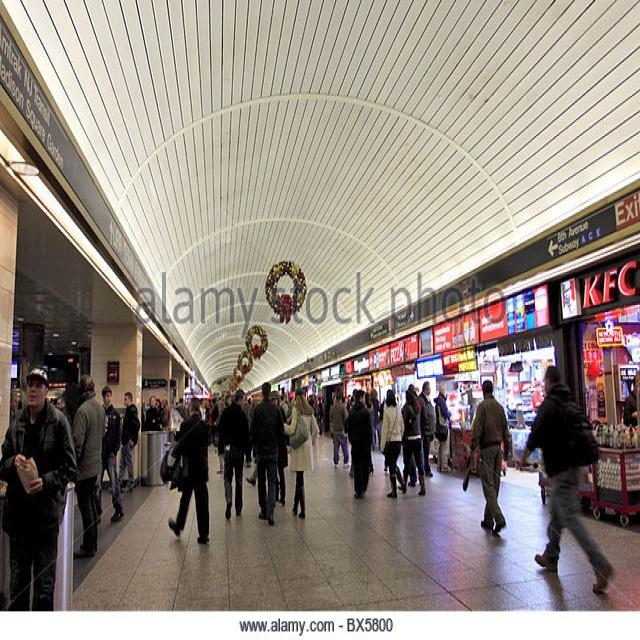body: (515, 362, 618, 598), (0, 362, 80, 639), (5, 382, 399, 412), (460, 376, 513, 538), (159, 395, 213, 546), (71, 372, 107, 562), (248, 378, 288, 527), (280, 384, 321, 521), (215, 387, 252, 522), (98, 384, 126, 525), (343, 387, 375, 501), (397, 384, 427, 498), (378, 390, 408, 500), (268, 388, 290, 508), (249, 389, 274, 494), (117, 391, 142, 490), (328, 389, 352, 471), (434, 381, 454, 475), (418, 378, 436, 478), (363, 390, 376, 476), (620, 378, 639, 427), (348, 388, 357, 477), (144, 394, 163, 432), (408, 382, 419, 398)
